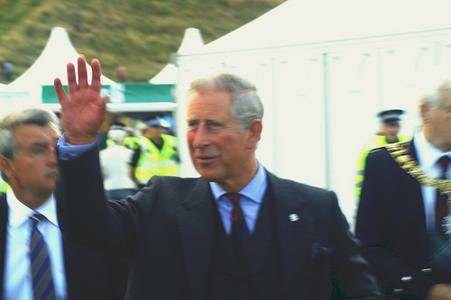person: (55, 55, 377, 300)
